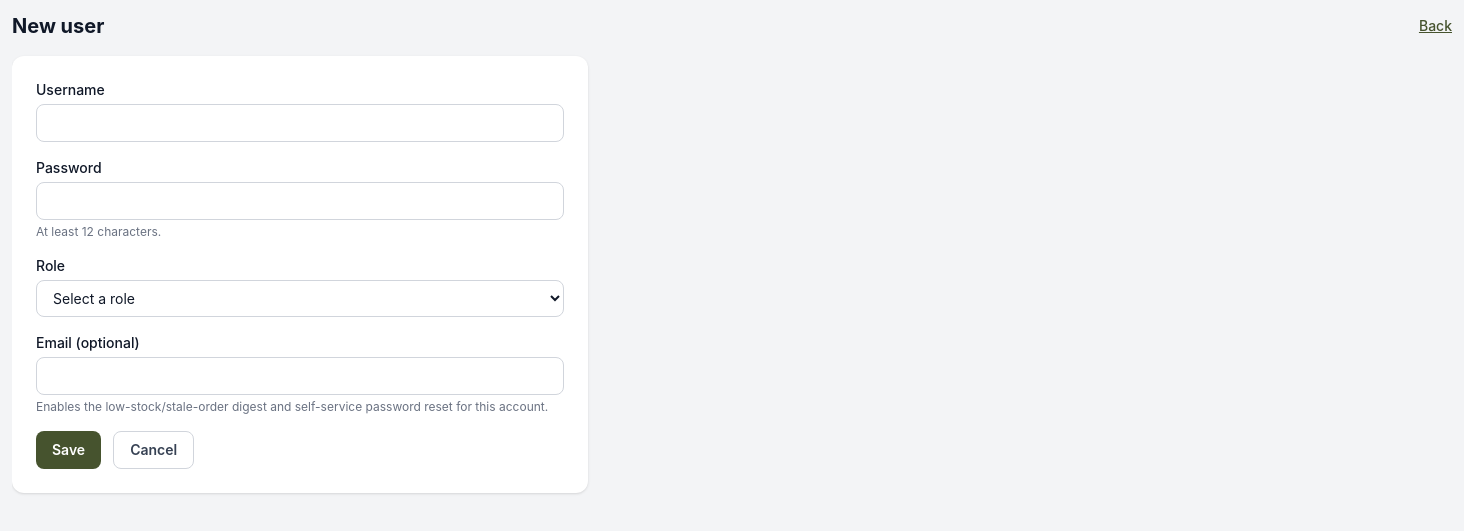
Test case: UserFormPage: role select › blocks submit and shows a validation error when Role is left untouched
The image size is (1464, 531).
Type "newoperator" into the field labelled "Username" at coordinates (300, 123), box [36,104,564,142]
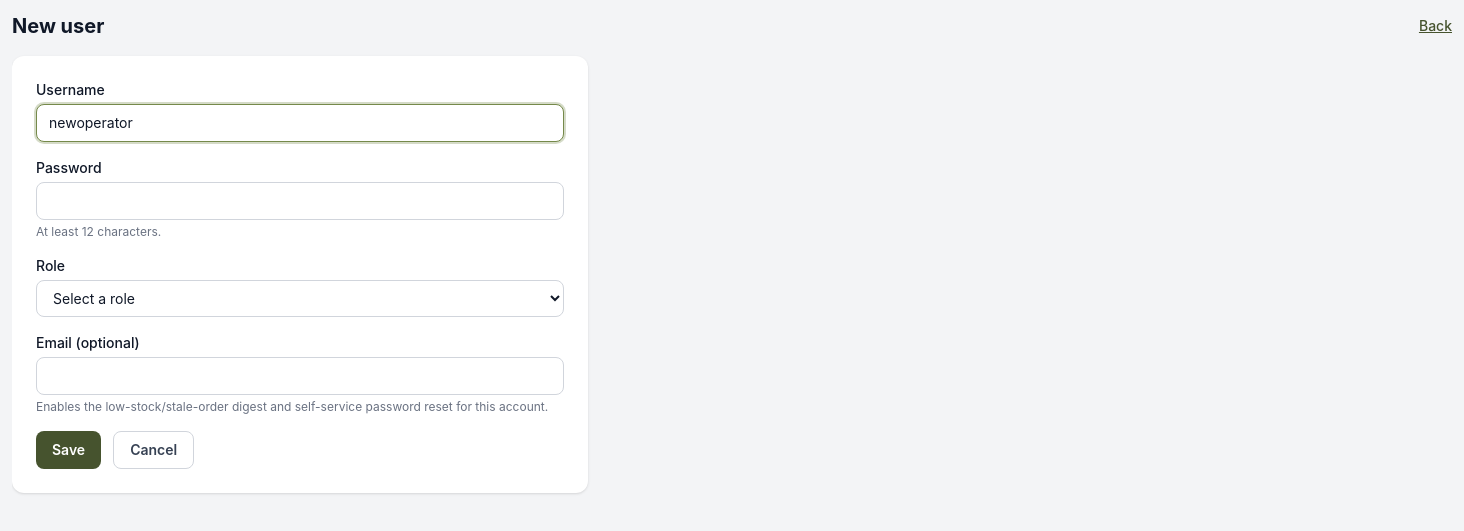
Type "a-long-enough-password" into the password field labelled "Password" at coordinates (300, 201), box [36,182,564,220]
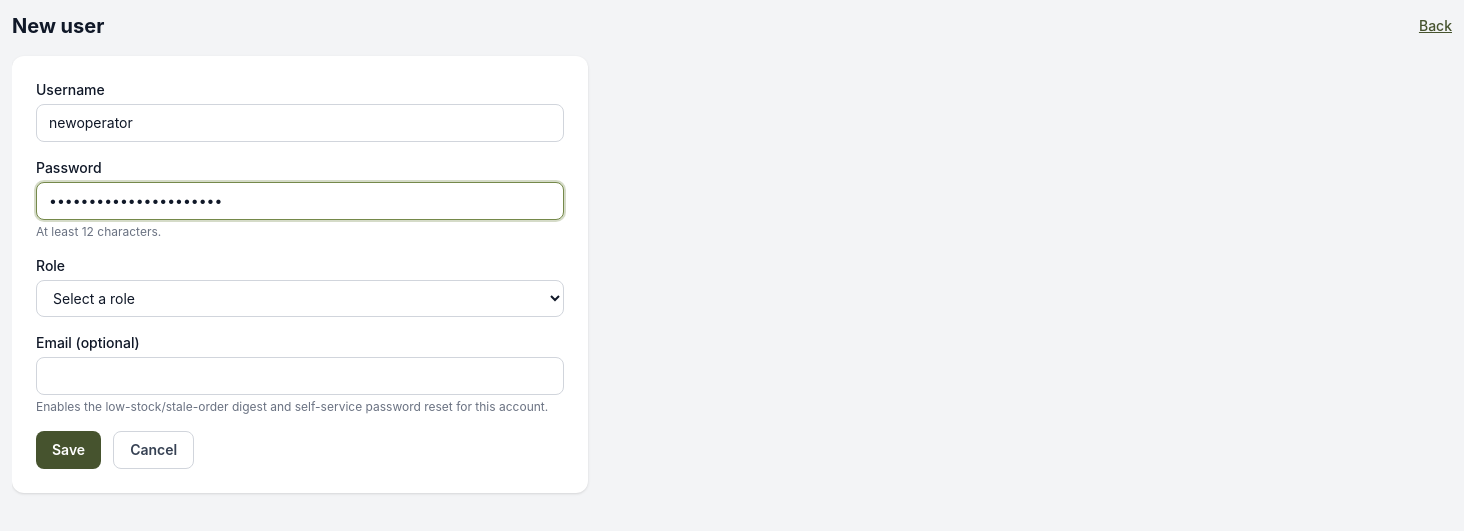
Click the button "Save" at coordinates (69, 450), box [36,431,101,469]
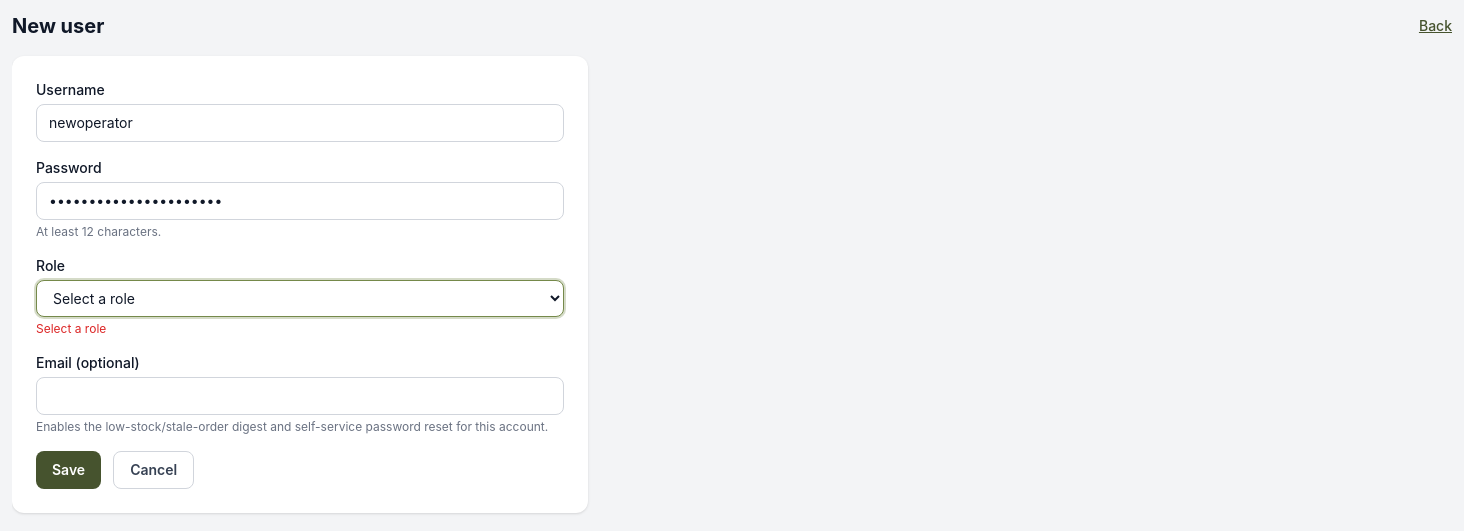
Check: the message reads "Select a role", box [36,321,106,336]
